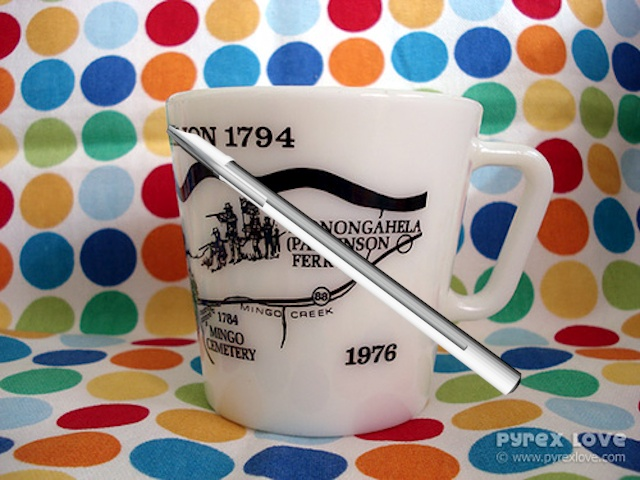pen: (161, 113, 528, 400)
